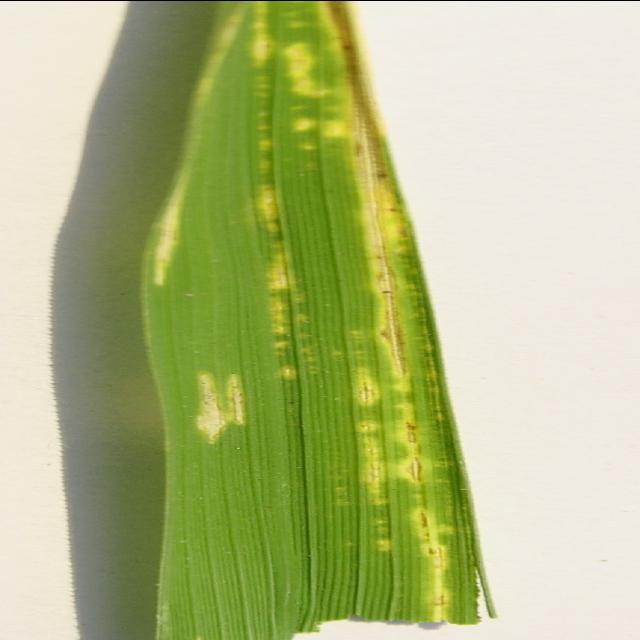Unhealthy: (321, 0, 410, 389), (152, 184, 185, 284), (280, 42, 339, 95), (391, 402, 420, 483), (195, 373, 227, 445), (423, 543, 451, 621), (409, 506, 454, 544), (270, 242, 293, 288), (356, 367, 379, 404), (228, 373, 244, 425), (366, 458, 381, 494), (262, 185, 276, 219), (272, 297, 285, 333), (364, 436, 377, 455), (358, 421, 377, 431), (374, 539, 391, 549), (283, 365, 293, 377), (273, 340, 286, 346)
